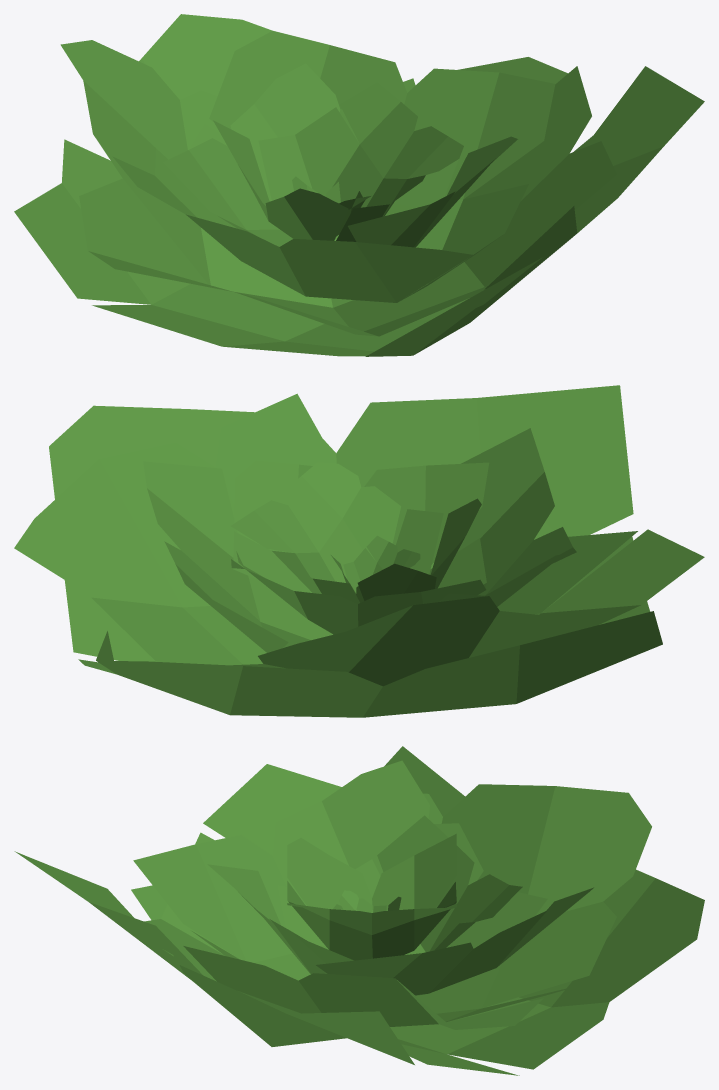
Rendered from Cabbage.fbx.
The picture shows the model from 3 angles, top to bottom: view 1: azimuth 30°, elevation 25°; view 2: azimuth 150°, elevation 25°; view 3: azimuth 270°, elevation 25°; orthographic projection. The views are drawn at different scales.
Visible parts, largest first — view 1: Cabbage; view 2: Cabbage; view 3: Cabbage.
Boxes of the visible parts, bbox=[...] form: Cabbage: bbox=[14, 14, 704, 356]; Cabbage: bbox=[14, 385, 704, 717]; Cabbage: bbox=[14, 746, 704, 1075].
Bounding box in the file's own units: 0.803 × 0.2447 × 0.8609.
